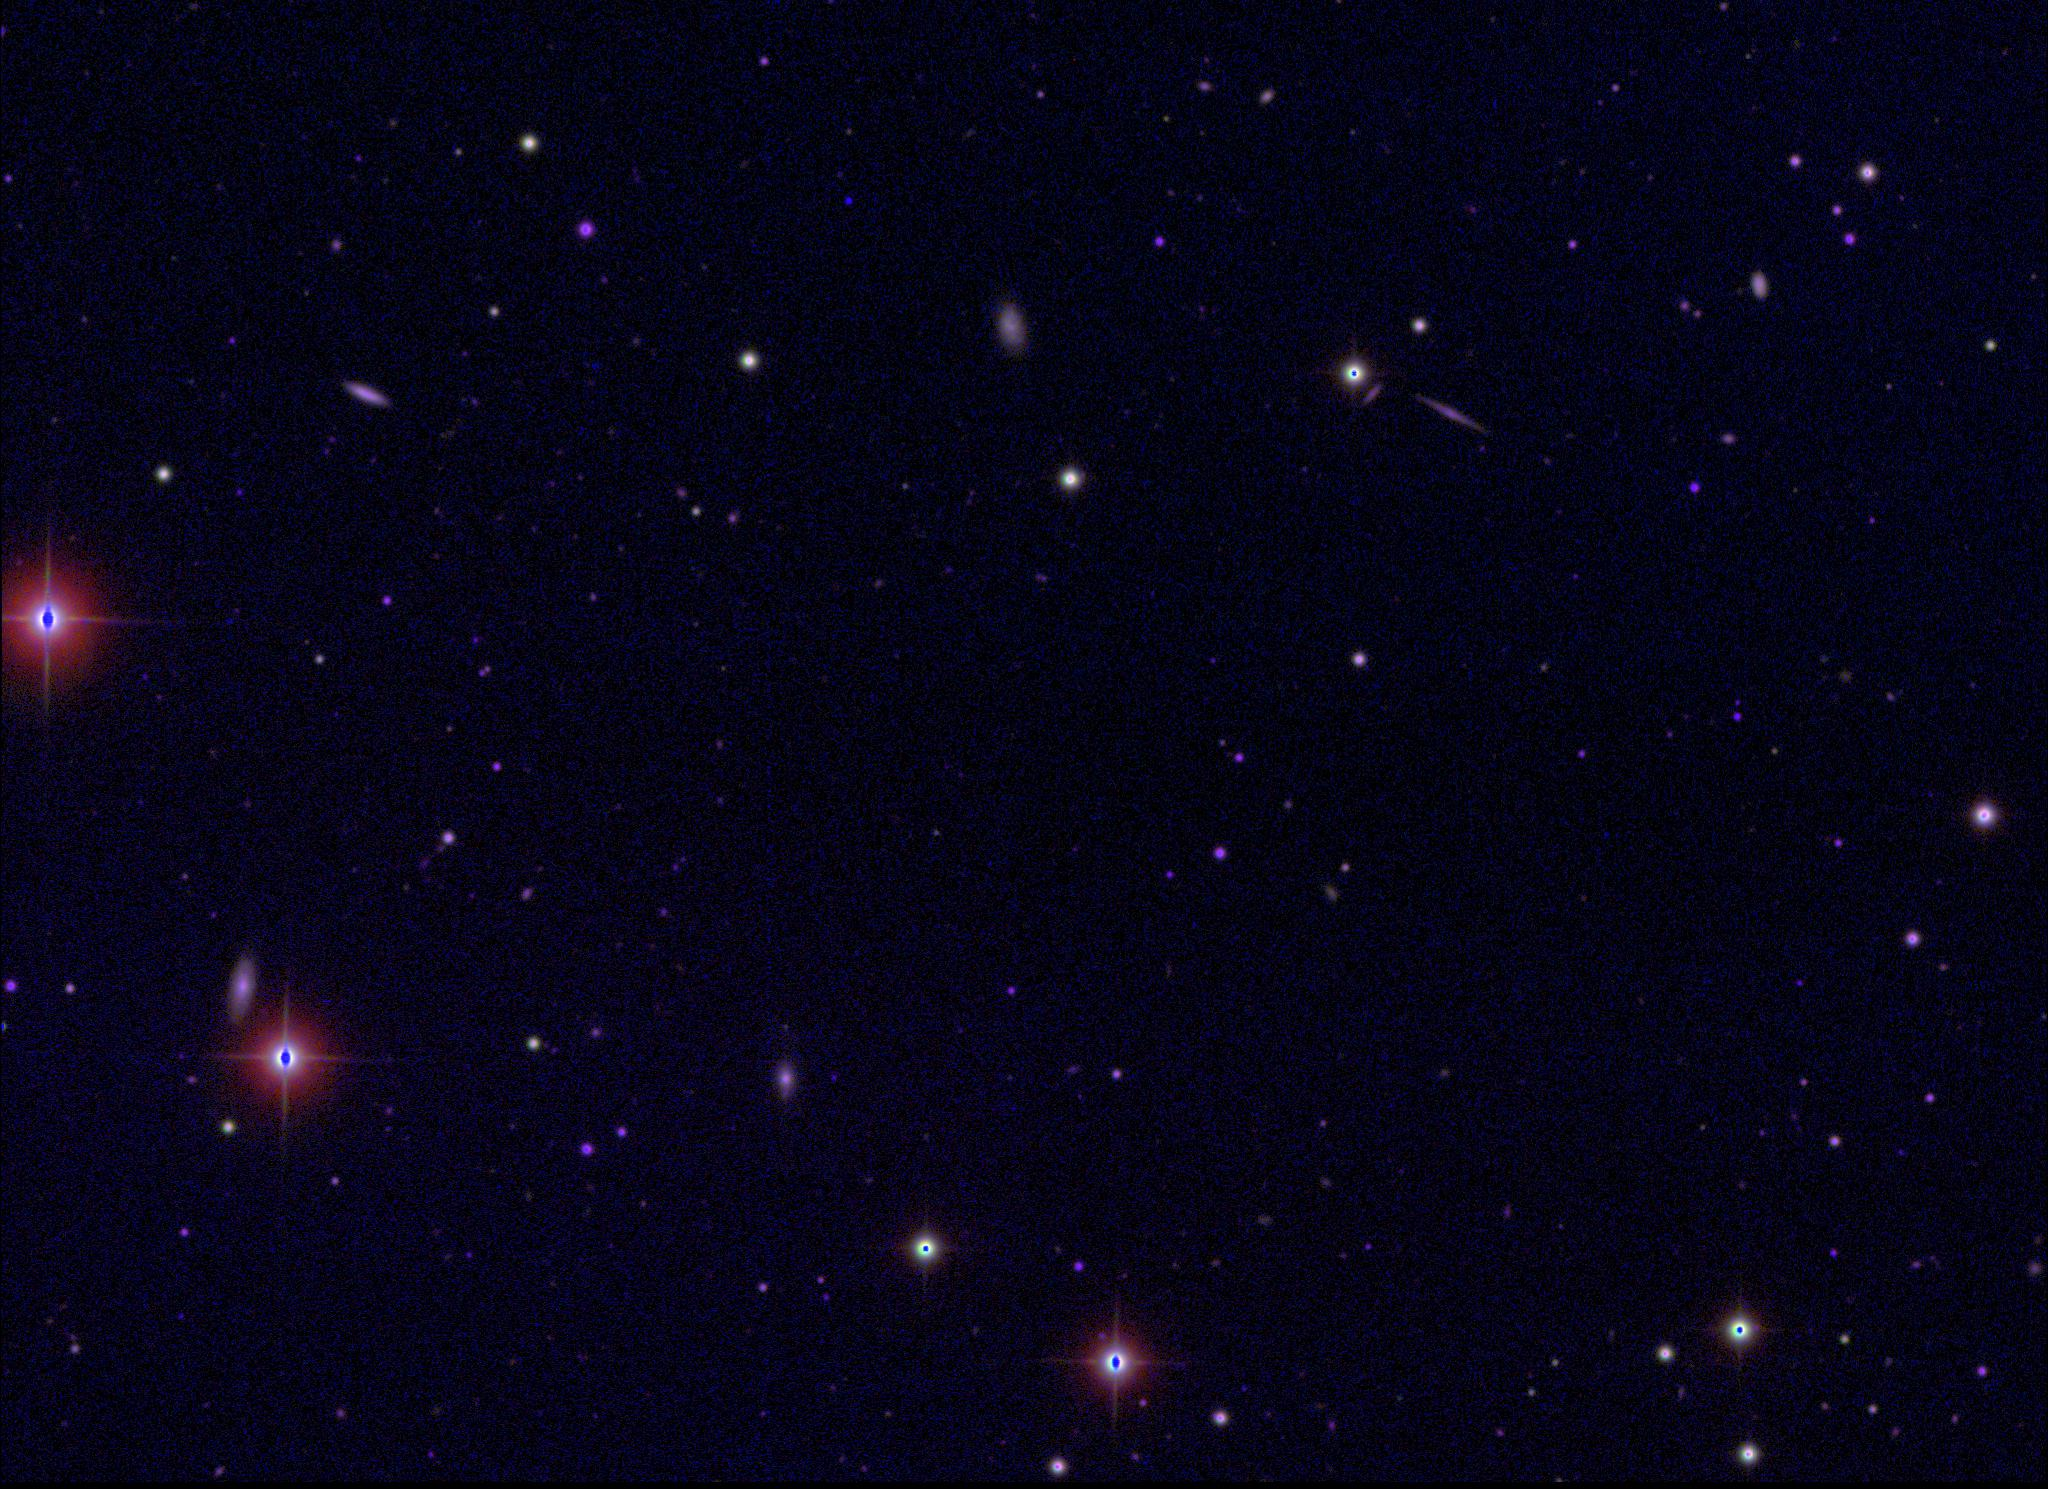L: (841, 194, 855, 208)
